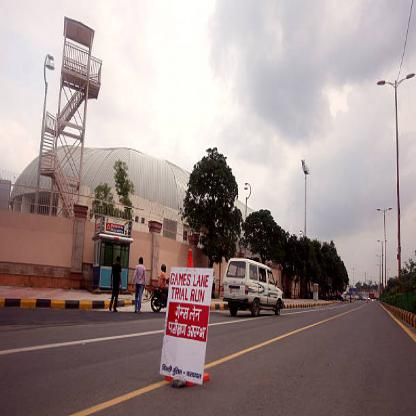car: (223, 259, 283, 317)
motorcycle: (146, 260, 170, 314)
